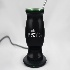guampa: (14, 3, 56, 67)
